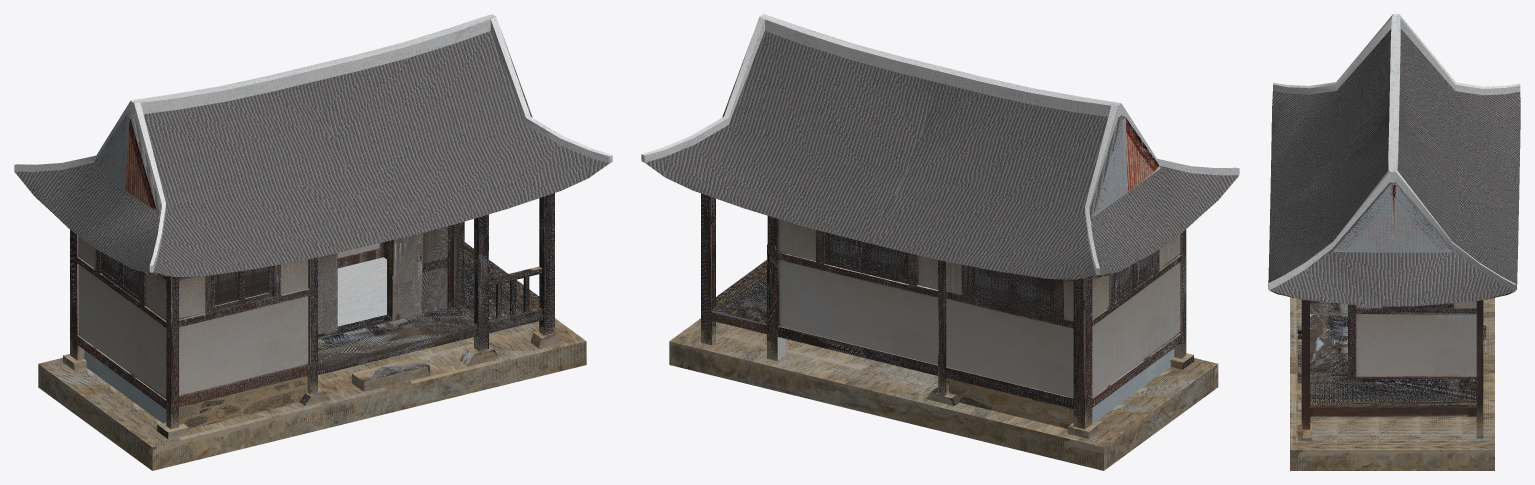
3 renders of one model, left to right at view 1: azimuth 30°, elevation 25°; view 2: azimuth 150°, elevation 25°; view 3: azimuth 270°, elevation 25°, orthographic. The views are drawn at different scales.
Parts seen in each view (by area): view 1: group_0 (×4), group_1 (×8), SketchUp; view 2: group_0 (×4), group_1 (×6), SketchUp; view 3: group_0 (×5), group_1 (×2), SketchUp.
Boxes of the visible parts, box(x1,y1,x2,y2) form: group_0 (×4): box(14, 14, 612, 276); group_1 (×8): box(63, 193, 554, 439); SketchUp: box(38, 318, 586, 470); group_0 (×4): box(641, 14, 1239, 279); group_1 (×6): box(701, 193, 1193, 438); SketchUp: box(669, 318, 1218, 470); group_0 (×5): box(1268, 14, 1520, 306); group_1 (×2): box(1297, 299, 1486, 438); SketchUp: box(1290, 297, 1494, 470).
Bounding box in the file's own units: 397 × 209 × 259.
